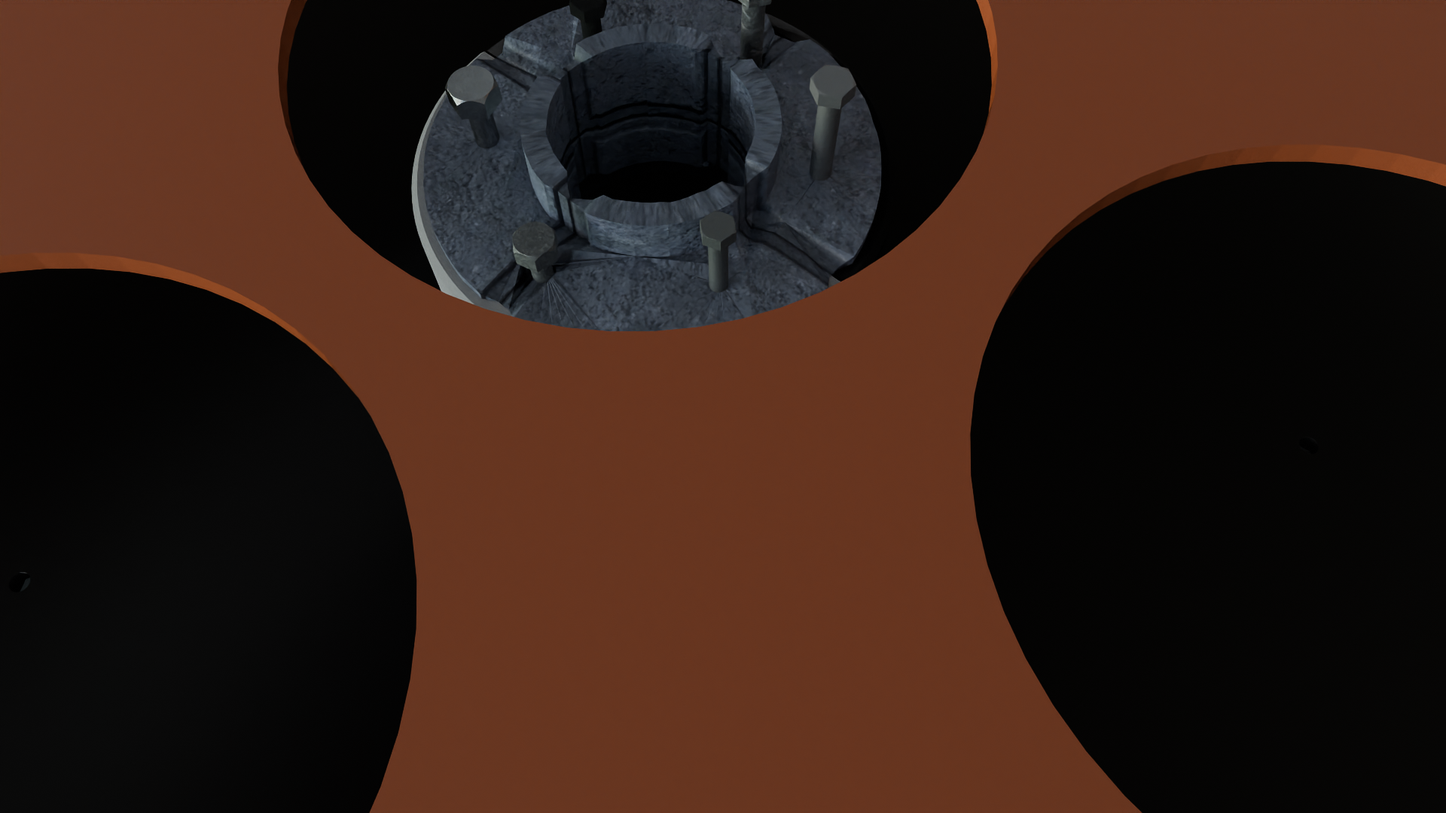bolt: (445, 65, 499, 105), (513, 221, 556, 261), (811, 65, 856, 98), (700, 211, 737, 242), (569, 0, 604, 13)
